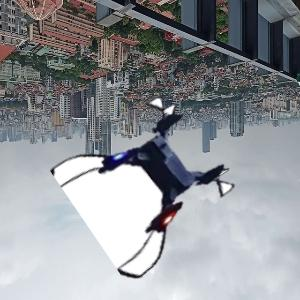drone: (74, 105, 228, 259)
